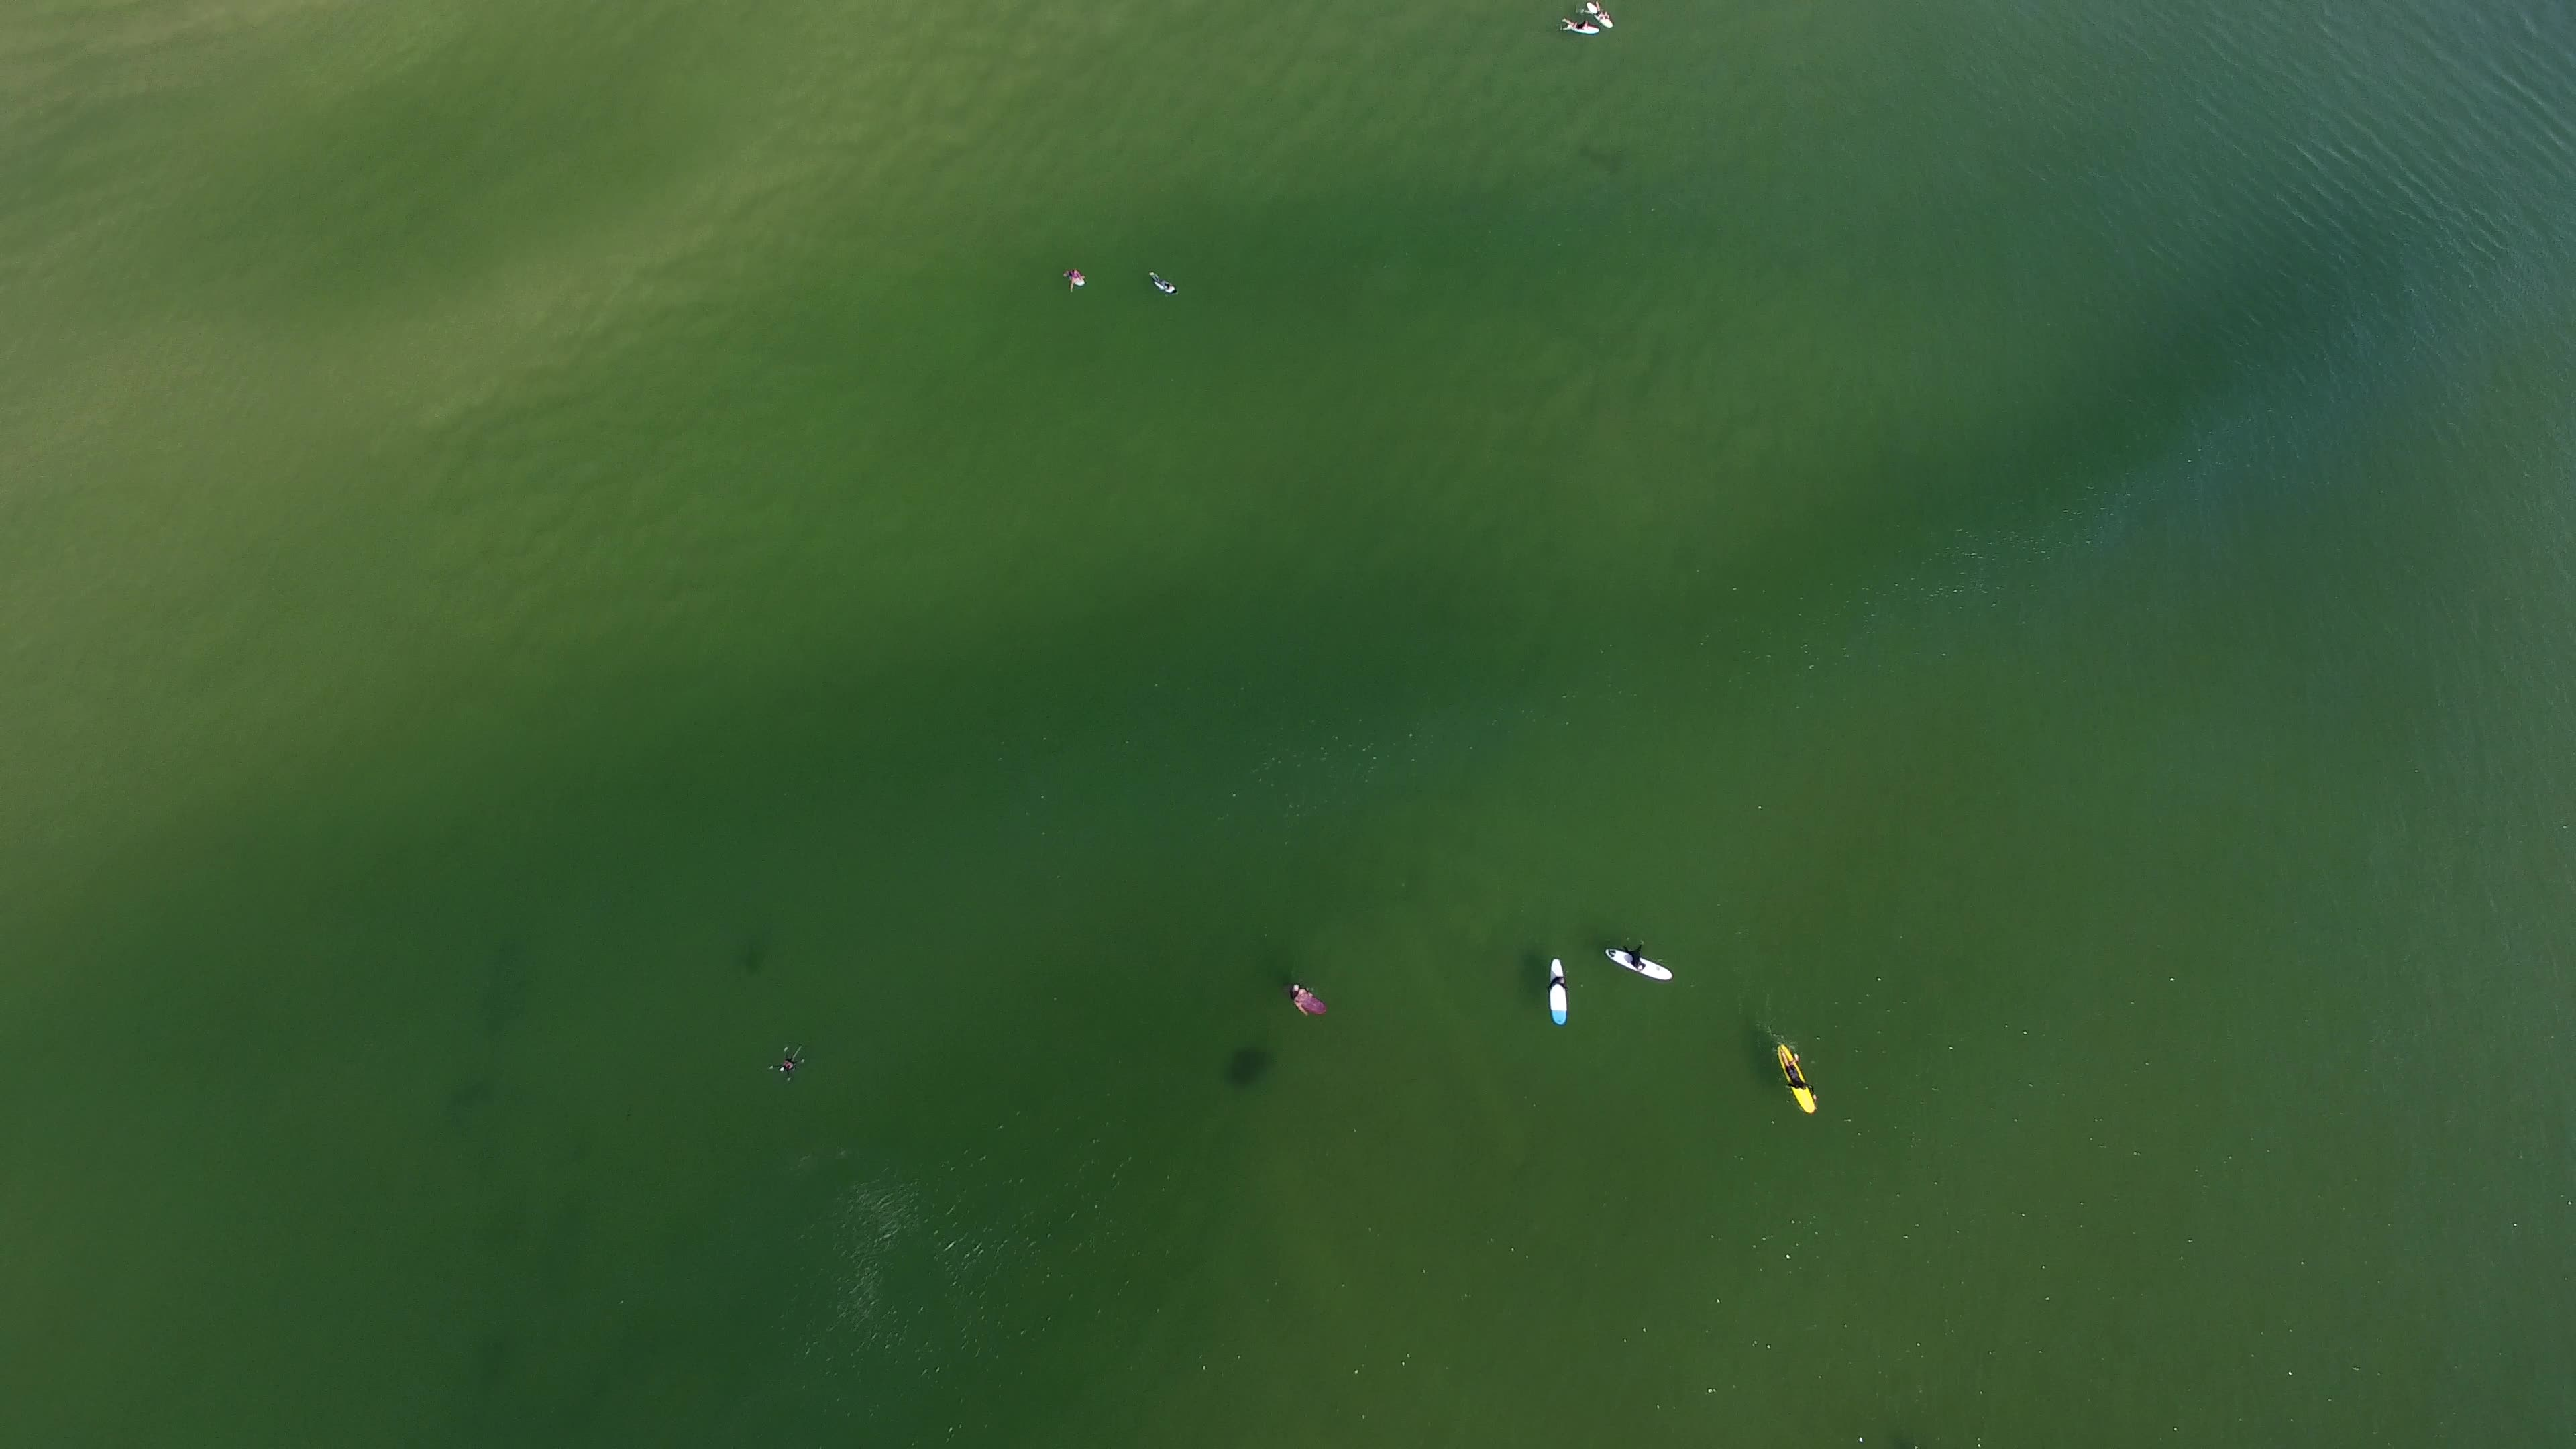surfer: (1762, 1033, 1824, 1123), (1599, 934, 1677, 985), (1539, 957, 1576, 1033), (1286, 985, 1330, 1024), (1150, 260, 1182, 299), (1580, 0, 1617, 30), (1067, 264, 1093, 297), (1566, 21, 1601, 37)
